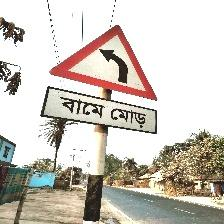Left-Turn: (44, 24, 159, 135)
